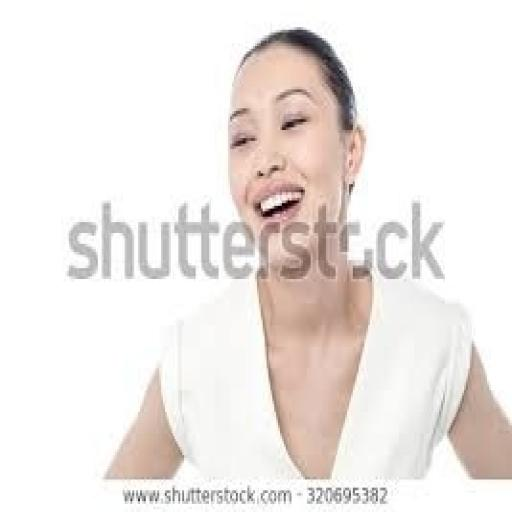laughing: (96, 22, 510, 482)
